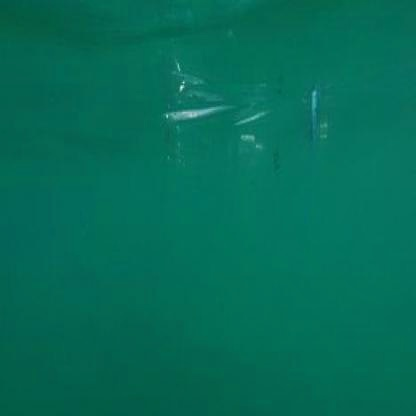pbottle: (158, 58, 340, 178)
